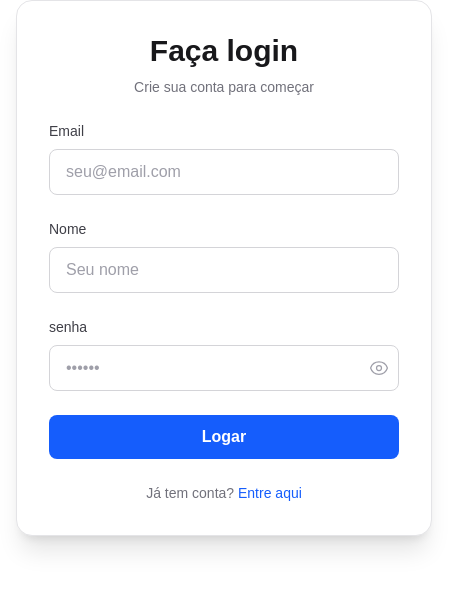
RegisterComponent › should error email when hints the button
The width and height of the screenshot is (449, 598).
Type "xlzthiaggmail.com" into the field labelled "Email".
click(224, 172); type("xlzthiaggmail.com")  # box [49,149,399,195]
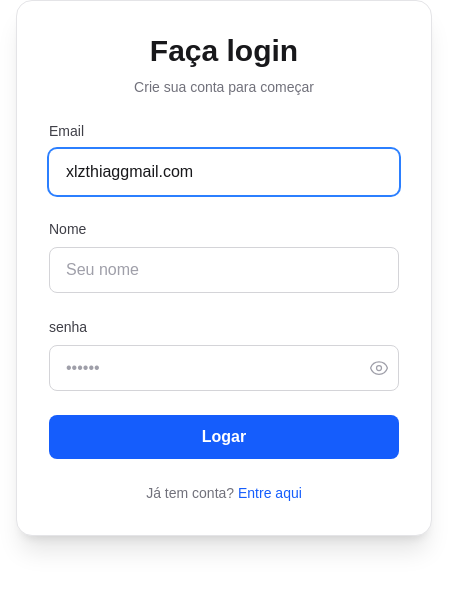
Type "Thiago" into the field labelled "Nome".
click(224, 270); type("Thiago")  # box [49,247,399,293]
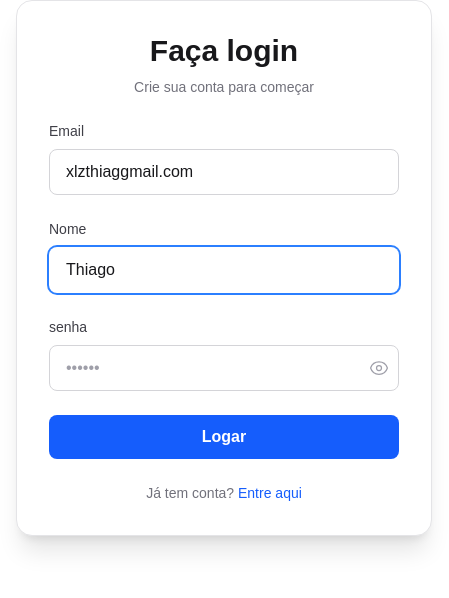
Type "123456" into the password field labelled "senha".
click(224, 368); type("123456")  # box [49,345,399,391]
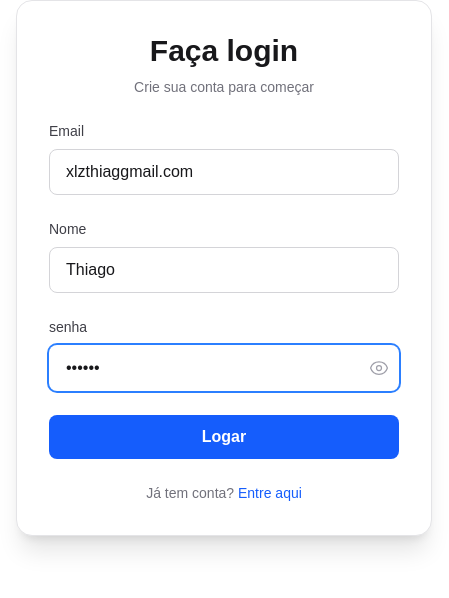
Click the button "Logar".
click(224, 437)  # box [49,415,399,459]
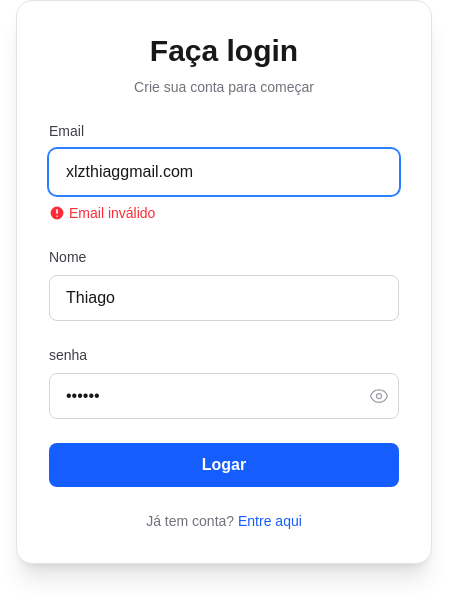
Now the text "Email inválido" is shown, box [49,205,155,221]
